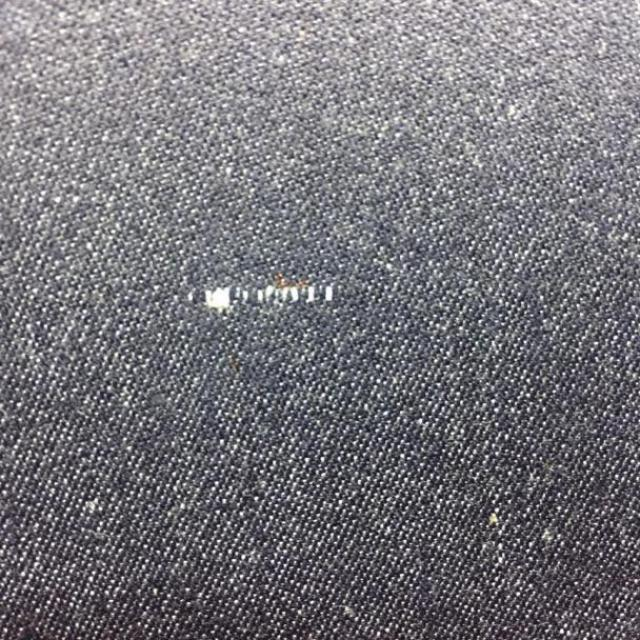Knot: (188, 285, 336, 312)
